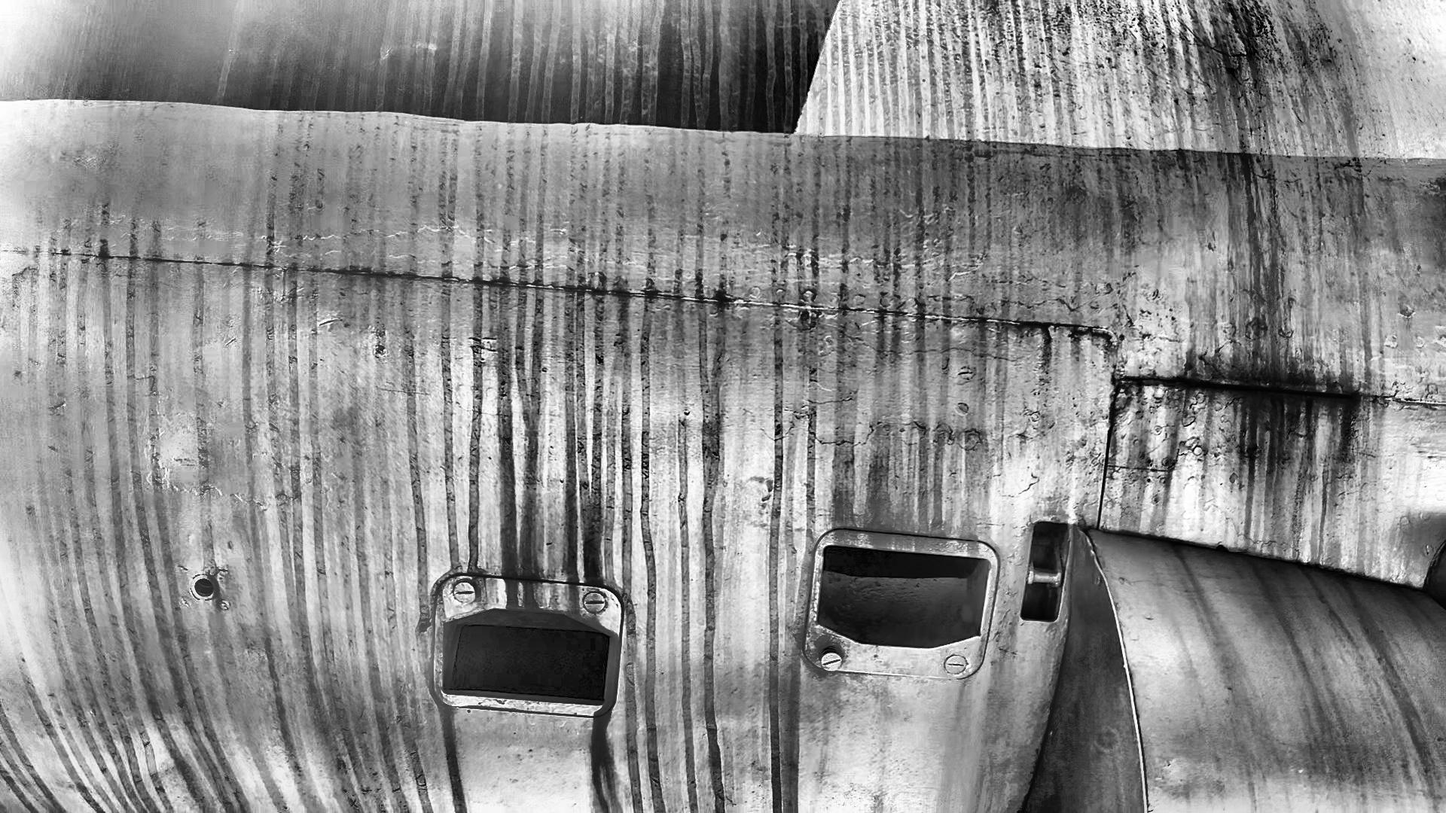crack: (1043, 325, 1052, 345)
paint-peel-off: (1068, 327, 1114, 348)
